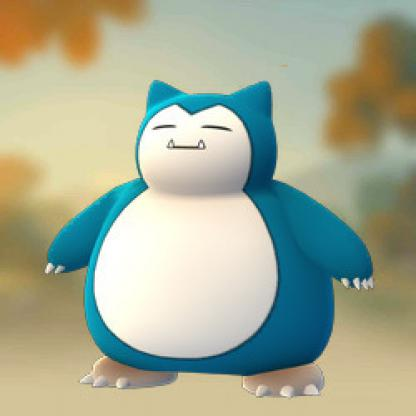Snorlax: (16, 12, 416, 416)
